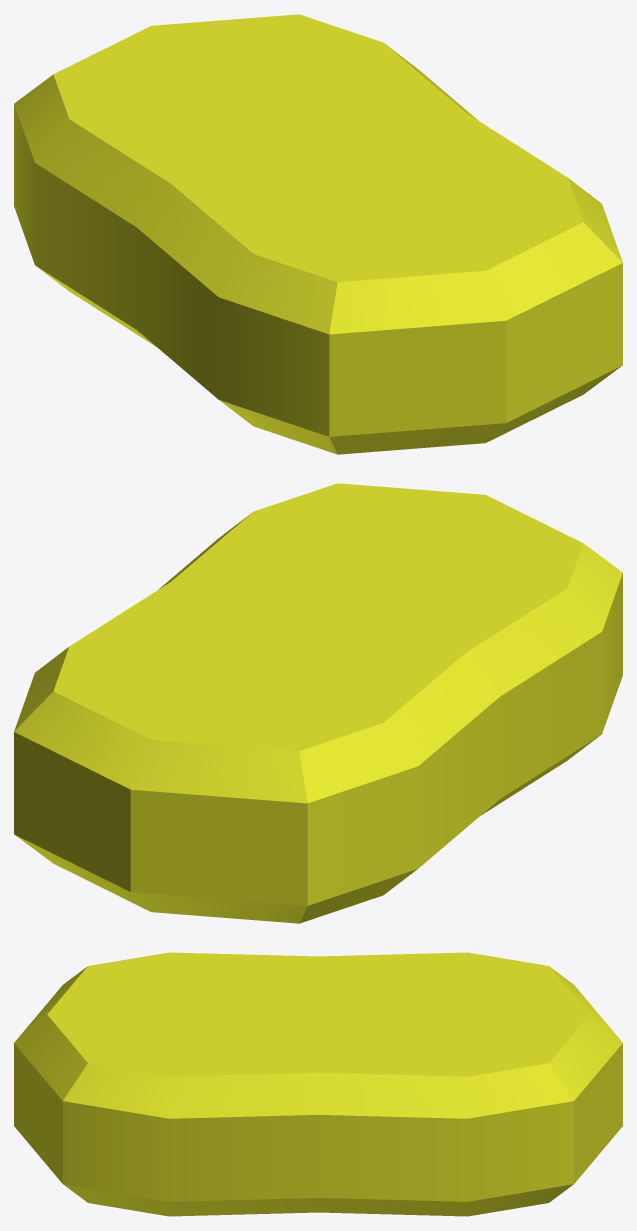
File: 2sponge.fbx
The picture shows the model from 3 angles, top to bottom: view 1: azimuth 30°, elevation 25°; view 2: azimuth 150°, elevation 25°; view 3: azimuth 270°, elevation 25°; orthographic projection. The views are drawn at different scales.
Visible parts, largest first — view 1: 2sponge; view 2: 2sponge; view 3: 2sponge.
Part boxes in pixels (<box>): 2sponge: <box>14,14,622,454</box>; 2sponge: <box>14,483,622,923</box>; 2sponge: <box>14,952,622,1216</box>.
Size of the model in its own units: 12.02 by 5.17 by 20.4.
